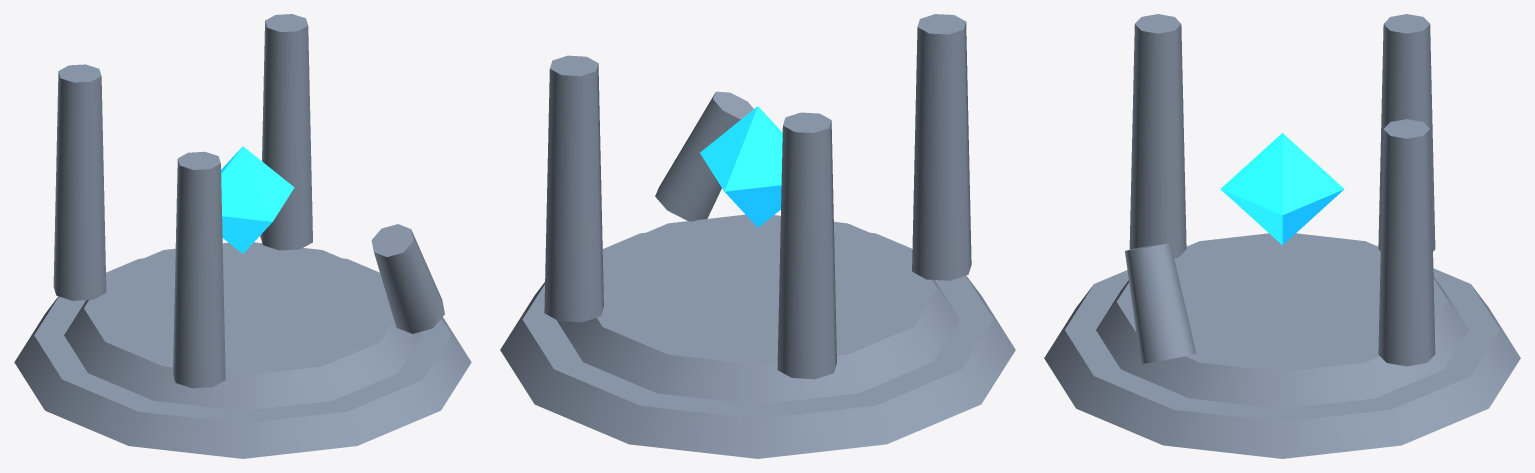
Rendered from ancient_ruin.glb.
The picture shows the model from 3 angles, left to right: view 1: azimuth 30°, elevation 25°; view 2: azimuth 150°, elevation 25°; view 3: azimuth 270°, elevation 25°; orthographic projection. The views are drawn at different scales.
Parts seen in each view (by area): view 1: Ancient_Ruin; view 2: Ancient_Ruin; view 3: Ancient_Ruin.
Part boxes in pixels (x1,y1,x2,y2): Ancient_Ruin: (14, 14, 471, 458); Ancient_Ruin: (500, 14, 1015, 458); Ancient_Ruin: (1044, 14, 1520, 458).
Size of the model in its own units: 9.2 by 6 by 9.2.
